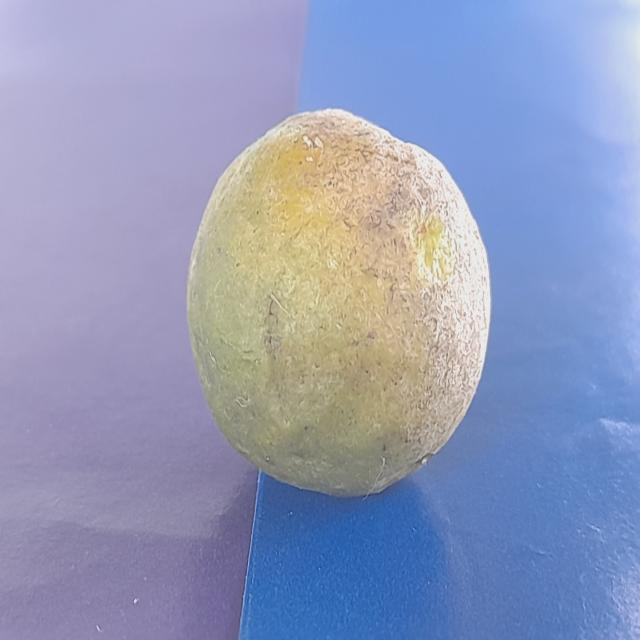thrips: (150, 64, 517, 533)
